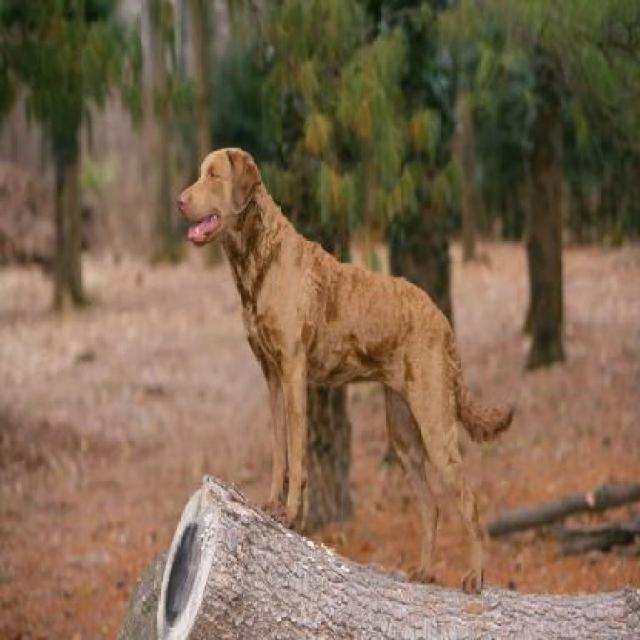animals: (196, 111, 535, 589)
